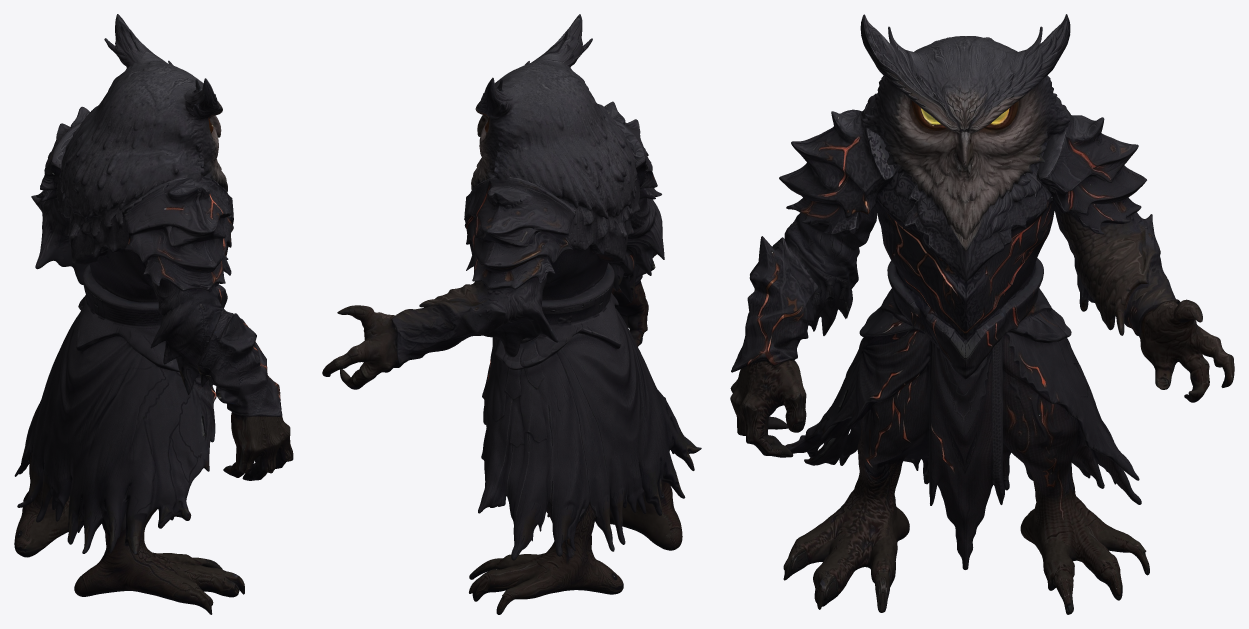
The model's file is umber_model_alternate.glb.
The picture shows the model from 3 angles, left to right: view 1: azimuth 30°, elevation 25°; view 2: azimuth 150°, elevation 25°; view 3: azimuth 270°, elevation 25°; orthographic projection. The views are drawn at different scales.
Visible parts, largest first — view 1: tripo_part_5, tripo_part_9, tripo_part_1, tripo_part_2, tripo_part_3, tripo_part_11, tripo_part_8, tripo_part_7, tripo_part_13, tripo_part_18, tripo_part_16; view 2: tripo_part_5, tripo_part_9, tripo_part_18, tripo_part_16, tripo_part_13, tripo_part_11, tripo_part_1, tripo_part_8, tripo_part_7, tripo_part_3, tripo_part_2; view 3: tripo_part_1, tripo_part_7, tripo_part_9, tripo_part_5, tripo_part_18, tripo_part_3, tripo_part_13, tripo_part_10, tripo_part_8, tripo_part_2, tripo_part_11, tripo_part_16.
Boxes of the visible parts, <box> form: tripo_part_5: <box>14,310,216,554</box>; tripo_part_9: <box>56,62,227,264</box>; tripo_part_1: <box>150,279,293,480</box>; tripo_part_2: <box>121,176,233,291</box>; tripo_part_3: <box>74,508,244,614</box>; tripo_part_11: <box>76,264,227,372</box>; tripo_part_8: <box>104,14,222,119</box>; tripo_part_7: <box>89,182,233,302</box>; tripo_part_13: <box>14,454,69,557</box>; tripo_part_18: <box>31,195,89,284</box>; tripo_part_16: <box>36,106,89,201</box>; tripo_part_5: <box>478,309,701,560</box>; tripo_part_9: <box>471,60,640,263</box>; tripo_part_18: <box>322,276,558,389</box>; tripo_part_16: <box>464,177,575,289</box>; tripo_part_13: <box>469,425,623,614</box>; tripo_part_11: <box>495,263,620,369</box>; tripo_part_1: <box>608,198,664,346</box>; tripo_part_8: <box>475,14,592,117</box>; tripo_part_7: <box>464,180,608,300</box>; tripo_part_3: <box>547,481,682,550</box>; tripo_part_2: <box>604,101,661,199</box>; tripo_part_1: <box>730,207,877,457</box>; tripo_part_7: <box>874,152,1055,339</box>; tripo_part_9: <box>861,36,1070,239</box>; tripo_part_5: <box>785,330,1141,504</box>; tripo_part_18: <box>1055,205,1234,402</box>; tripo_part_3: <box>783,371,929,612</box>; tripo_part_13: <box>1002,370,1149,614</box>; tripo_part_10: <box>929,338,1004,569</box>; tripo_part_8: <box>860,14,1070,133</box>; tripo_part_2: <box>779,103,894,234</box>; tripo_part_11: <box>859,258,1071,379</box>; tripo_part_16: <box>1036,105,1146,234</box>.
Size of the model in its own units: 0.4453 by 1 by 0.7759.
Materials: 13 (13 with a texture image).
